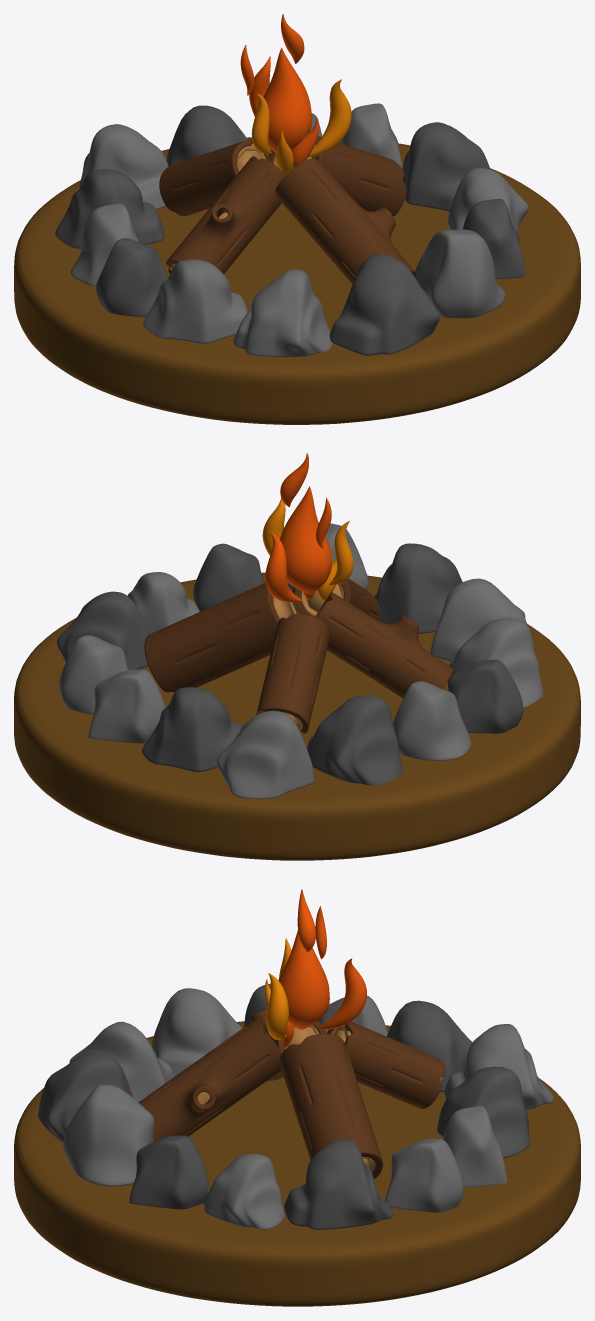
Rendered from Fireflies.glb.
3 renders of one model, top to bottom at view 1: azimuth 30°, elevation 25°; view 2: azimuth 150°, elevation 25°; view 3: azimuth 270°, elevation 25°, orthographic.
Visible parts, largest first — view 1: Cylinder015, Cube019, Cube105, Merged_0, Merged_2, Merged_3; view 2: Cylinder015, Cube019, Cube105, Merged_0, Merged_2, Merged_3, Merged_1; view 3: Cylinder015, Cube019, Cube105, Merged_0, Merged_2, Merged_3, Merged_1.
Part boxes in pixels (bbox=[...]): Cylinder015: bbox=[14, 137, 580, 424]; Cube019: bbox=[71, 103, 528, 356]; Cube105: bbox=[55, 105, 525, 355]; Merged_0: bbox=[159, 136, 415, 284]; Merged_2: bbox=[240, 14, 318, 168]; Merged_3: bbox=[251, 79, 351, 174]; Cylinder015: bbox=[14, 572, 580, 860]; Cube019: bbox=[59, 523, 543, 799]; Cube105: bbox=[57, 543, 523, 785]; Merged_0: bbox=[144, 578, 453, 733]; Merged_2: bbox=[265, 453, 331, 602]; Merged_3: bbox=[262, 498, 353, 601]; Merged_1: bbox=[261, 583, 343, 734]; Cylinder015: bbox=[14, 1021, 580, 1306]; Cube019: bbox=[63, 988, 553, 1229]; Cube105: bbox=[38, 983, 530, 1229]; Merged_0: bbox=[138, 1008, 445, 1178]; Merged_2: bbox=[278, 889, 366, 1047]; Merged_3: bbox=[264, 938, 291, 1040]; Merged_1: bbox=[197, 1025, 442, 1172].
Size of the model in its own units: 1 by 0.5792 by 1.
